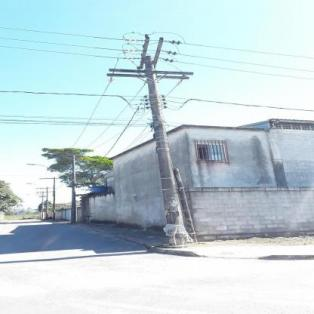Poste: (138, 54, 194, 246)
